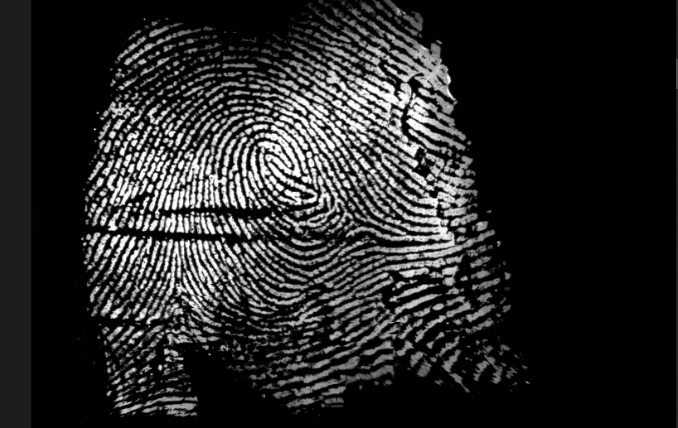nucelo: (258, 137, 291, 180)
verticilo: (160, 279, 199, 314), (331, 200, 365, 236)
